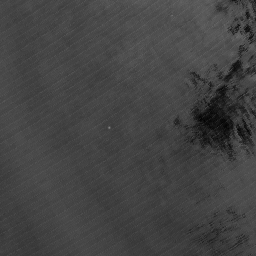Target: (105, 124, 112, 131)
